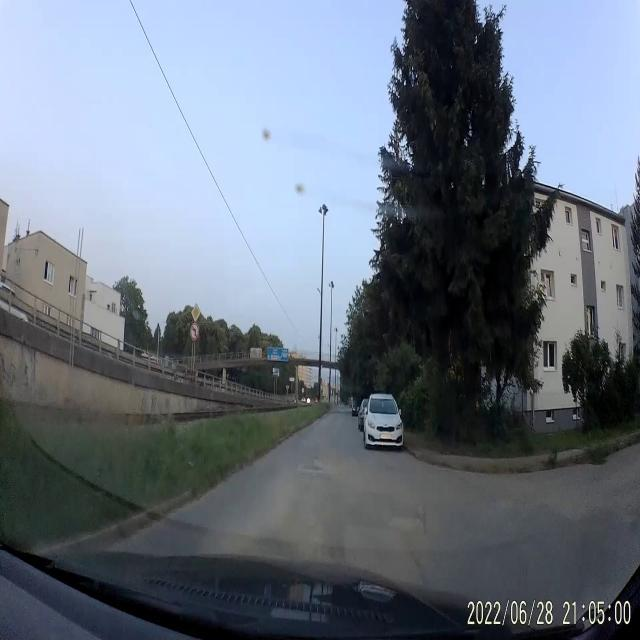Pothole: (388, 506, 430, 542)
